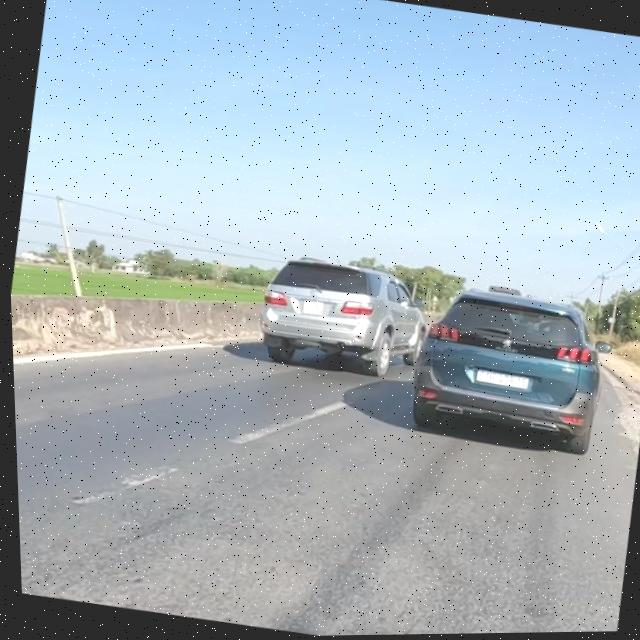car: (402, 271, 616, 465), (247, 247, 438, 392)
plate: (463, 359, 536, 399), (293, 292, 336, 324)
